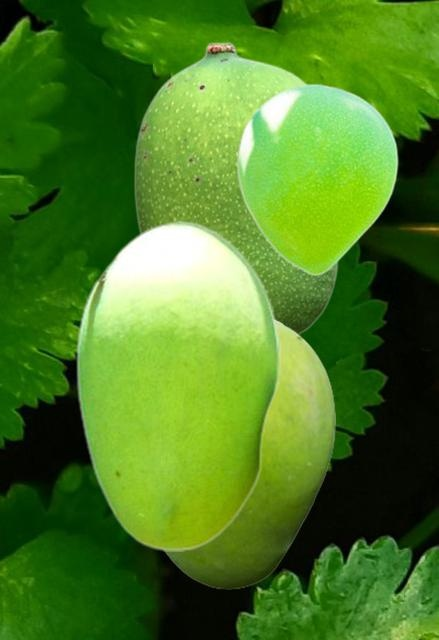green_mango: (75, 220, 279, 550), (133, 41, 338, 334), (161, 318, 334, 588), (237, 83, 397, 275)
